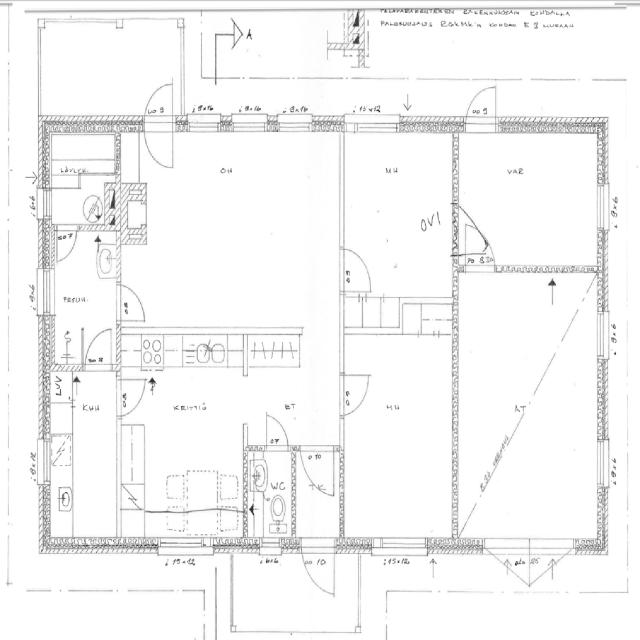door: (140, 76, 177, 174), (297, 442, 339, 497), (300, 538, 337, 595), (339, 242, 375, 296), (461, 217, 497, 271), (464, 82, 498, 134), (81, 324, 117, 371), (116, 278, 150, 326), (338, 369, 372, 416), (116, 373, 148, 418), (261, 409, 292, 454), (53, 223, 79, 264)
window: (366, 530, 434, 562), (154, 534, 214, 558), (345, 115, 401, 137), (594, 432, 613, 496), (594, 177, 612, 238), (594, 305, 612, 365), (37, 264, 56, 320), (230, 112, 271, 135), (186, 112, 223, 134), (276, 114, 315, 134), (38, 434, 52, 488), (38, 183, 53, 223)
zone: (340, 329, 458, 550), (119, 358, 247, 536), (342, 130, 457, 305), (458, 131, 602, 269), (45, 368, 121, 543), (49, 225, 119, 365), (228, 12, 330, 77), (245, 447, 296, 542), (51, 175, 118, 229), (46, 131, 118, 176)
